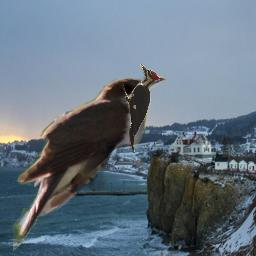Cuckoo: (13, 74, 166, 256)
Woodpecker: (120, 64, 160, 153)
